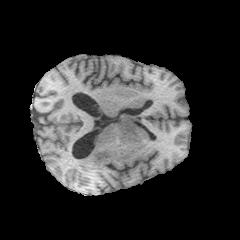glioma: (76, 113, 142, 172)
